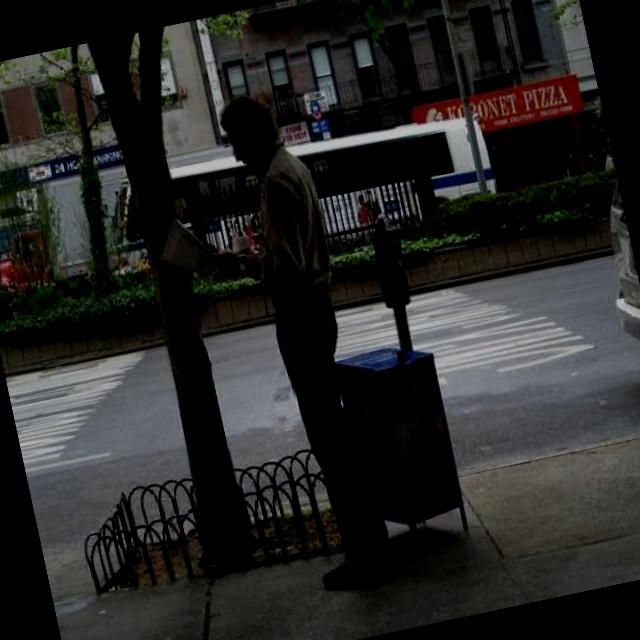Person: (176, 78, 400, 600), (588, 148, 604, 174), (562, 152, 576, 178)
